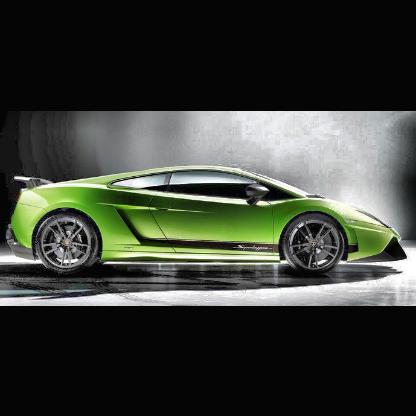Lamborghini Gallardo LP 570-4 Superleggera 2012: (7, 167, 409, 278)
